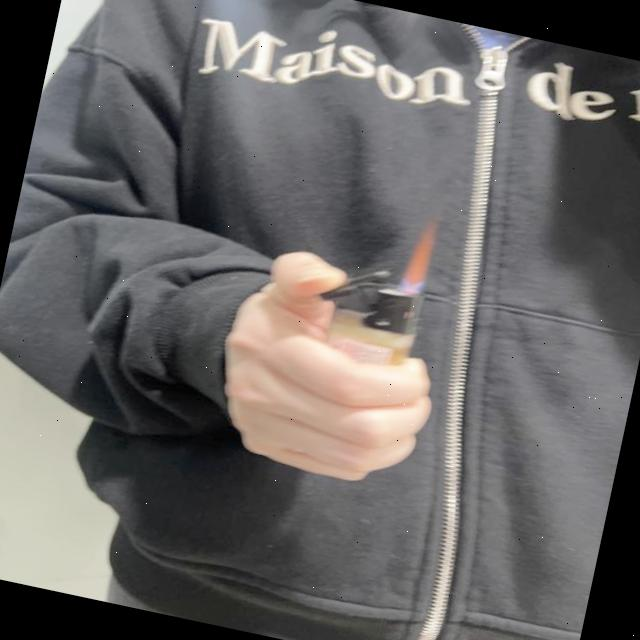fire: (402, 228, 436, 294)
